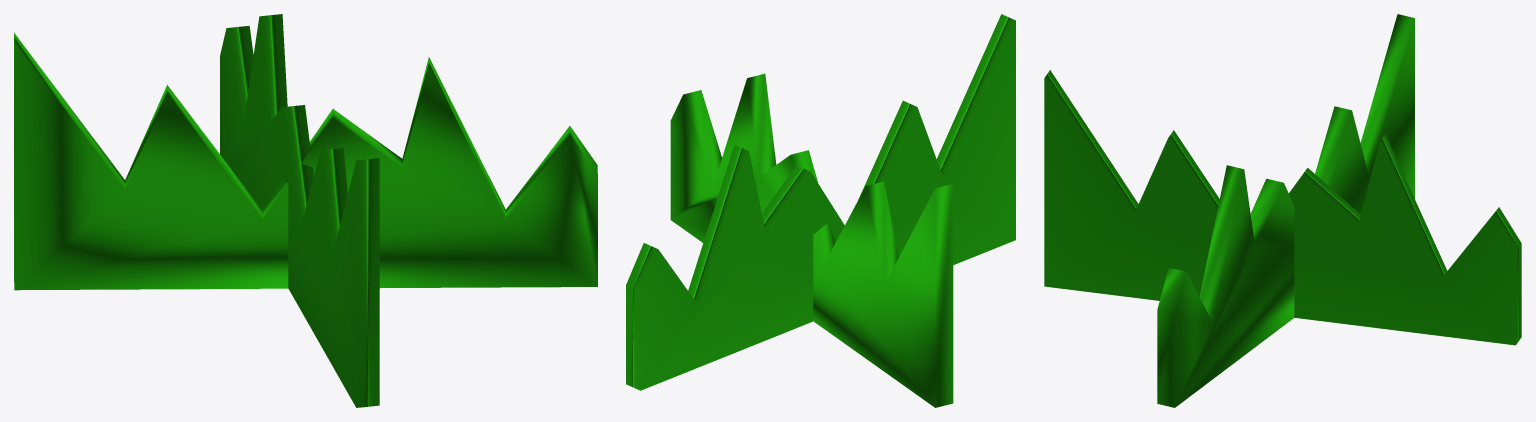
The model's file is Bush.fbx.
3 renders of one model, left to right at view 1: azimuth 30°, elevation 25°; view 2: azimuth 150°, elevation 25°; view 3: azimuth 270°, elevation 25°, orthographic. The views are drawn at different scales.
Visible parts, largest first — view 1: Bush; view 2: Bush; view 3: Bush.
Part boxes in pixels (x1,y1,x2,y2): Bush: (14,14,597,407); Bush: (626,14,1015,407); Bush: (1044,14,1521,407).
Size of the model in its own units: 178 by 194 by 93.64.
